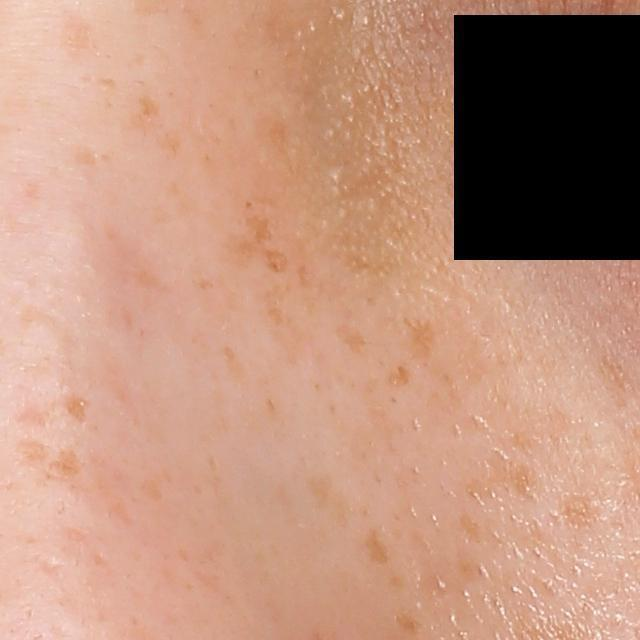melasma: (470, 446, 541, 506), (297, 470, 358, 529), (247, 105, 299, 163), (556, 490, 606, 536), (359, 524, 395, 567), (334, 320, 371, 358), (42, 446, 79, 483), (240, 215, 277, 251), (58, 392, 94, 428), (261, 284, 288, 329), (136, 468, 167, 507), (383, 361, 418, 393), (259, 245, 292, 278), (391, 609, 427, 637), (159, 127, 190, 159), (458, 508, 485, 544), (133, 95, 159, 130), (295, 261, 316, 294)
